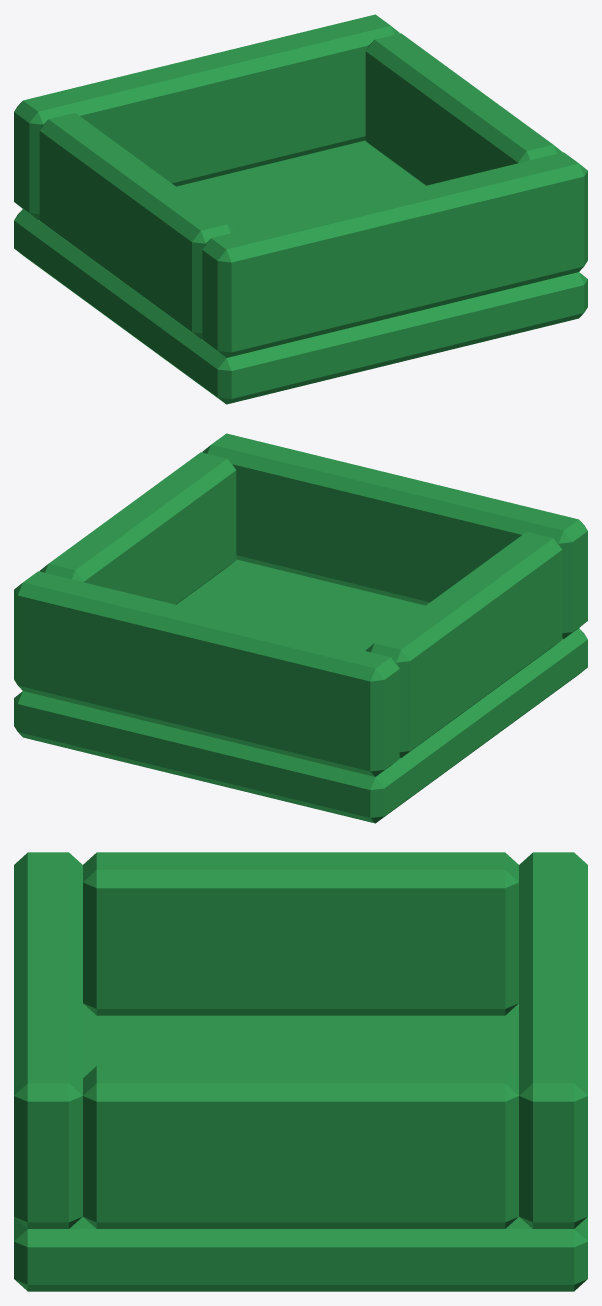
File: product_base_green.glb
3 renders of one model, top to bottom at view 1: azimuth 30°, elevation 25°; view 2: azimuth 150°, elevation 25°; view 3: azimuth 270°, elevation 25°, orthographic. The views are drawn at different scales.
Visible parts, largest first — view 1: Item; view 2: Item; view 3: Item.
Part boxes in pixels (bbox=[...]): Item: bbox=[14, 14, 587, 404]; Item: bbox=[14, 433, 587, 823]; Item: bbox=[14, 852, 587, 1291].
Size of the model in its own units: 0.25 by 0.1 by 0.25.
